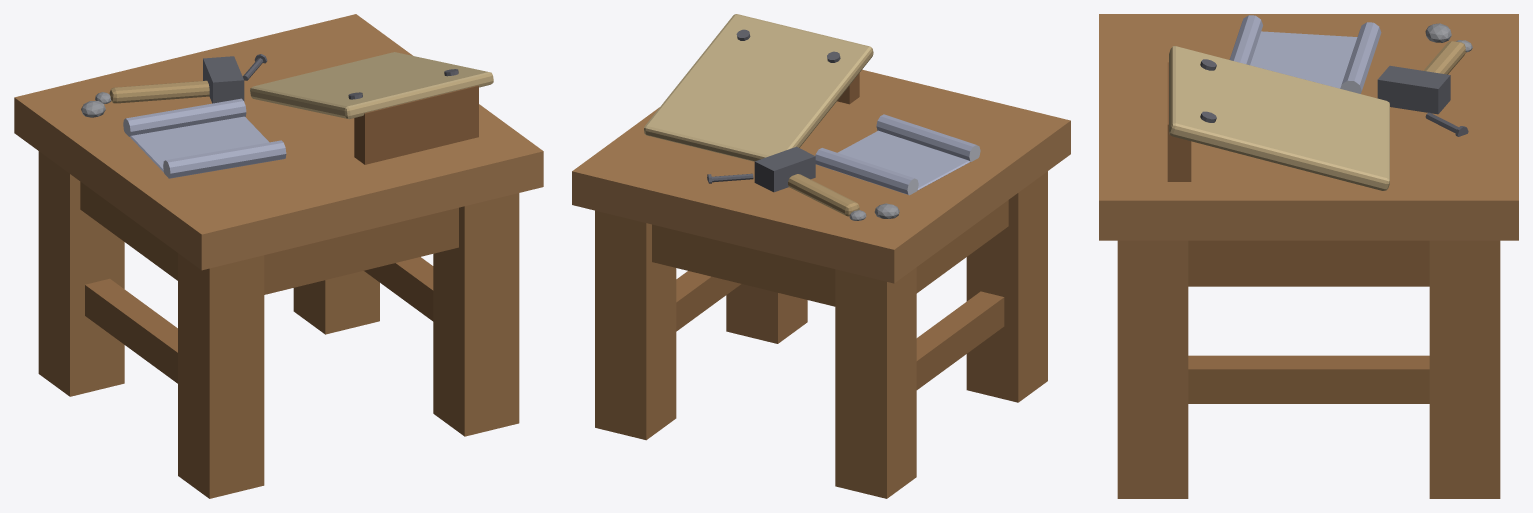
Rendered from Workbench.glb.
3 views of the same model, side by side, from view 1: azimuth 30°, elevation 25°; view 2: azimuth 150°, elevation 25°; view 3: azimuth 270°, elevation 25° (orthographic). The views are drawn at different scales.
Visible parts, largest first — view 1: Workbench_Merged; view 2: Workbench_Merged; view 3: Workbench_Merged.
Boxes of the visible parts, <box> form: Workbench_Merged: <box>14,14,543,498</box>; Workbench_Merged: <box>572,14,1070,498</box>; Workbench_Merged: <box>1099,14,1518,498</box>.
Size of the model in its own units: 0.3 by 0.2795 by 0.285.
